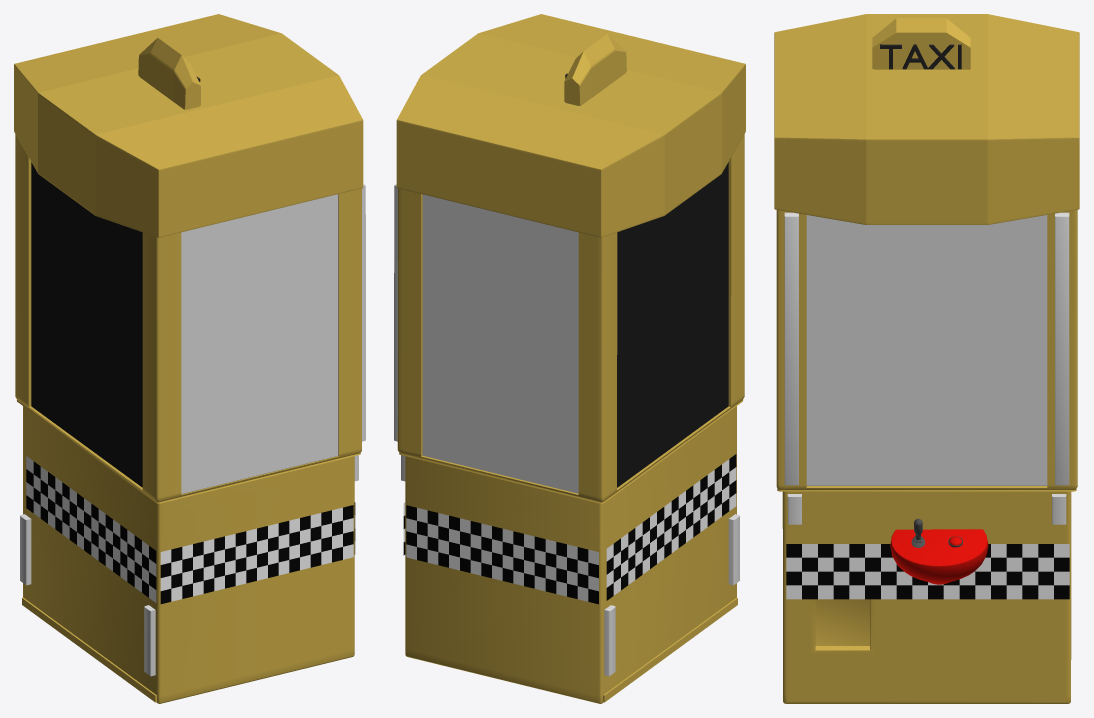
Rendered from taximachine.fbx.
The picture shows the model from 3 angles, left to right: view 1: azimuth 30°, elevation 25°; view 2: azimuth 150°, elevation 25°; view 3: azimuth 270°, elevation 25°; orthographic projection. The views are drawn at different scales.
Visible parts, largest first — view 1: Cube, Plane, WINDOWS, Cube.004, Plane.002, Plane.001, Cube.002, Cube.003, Cube.001; view 2: Cube, Plane, WINDOWS.001, Cube.004, Plane.003, Plane.001, Cube.002, Cube.003, Cube.001; view 3: WINDOWS.002, Plane, Cube, Plane.004, Cube.001, Sphere, Cube.002, Cube.005, Text.
Part boxes in pixels (bbox=[...]): Cube: bbox=[15, 134, 361, 703]; Plane: bbox=[14, 14, 363, 237]; WINDOWS: bbox=[181, 194, 338, 494]; Cube.004: bbox=[31, 162, 142, 487]; Plane.002: bbox=[160, 505, 353, 604]; Plane.001: bbox=[26, 456, 156, 602]; Cube.002: bbox=[138, 38, 200, 109]; Cube.003: bbox=[20, 514, 155, 676]; Cube.001: bbox=[362, 184, 365, 441]; Cube: bbox=[397, 134, 744, 703]; Plane: bbox=[396, 14, 745, 237]; WINDOWS.001: bbox=[422, 194, 578, 493]; Cube.004: bbox=[617, 162, 728, 487]; Plane.003: bbox=[406, 505, 598, 604]; Plane.001: bbox=[606, 454, 736, 600]; Cube.002: bbox=[564, 34, 626, 105]; Cube.003: bbox=[604, 514, 739, 676]; Cube.001: bbox=[394, 184, 397, 441]; WINDOWS.002: bbox=[806, 215, 1047, 485]; Plane: bbox=[774, 14, 1079, 224]; Cube: bbox=[776, 209, 1077, 703]; Plane.004: bbox=[786, 544, 1069, 599]; Cube.001: bbox=[784, 212, 1069, 485]; Sphere: bbox=[890, 529, 988, 584]; Cube.002: bbox=[872, 18, 970, 69]; Cube.005: bbox=[787, 494, 1066, 524]; Text: bbox=[880, 44, 961, 69].
Size of the model in its own units: 132 by 287 by 127.
